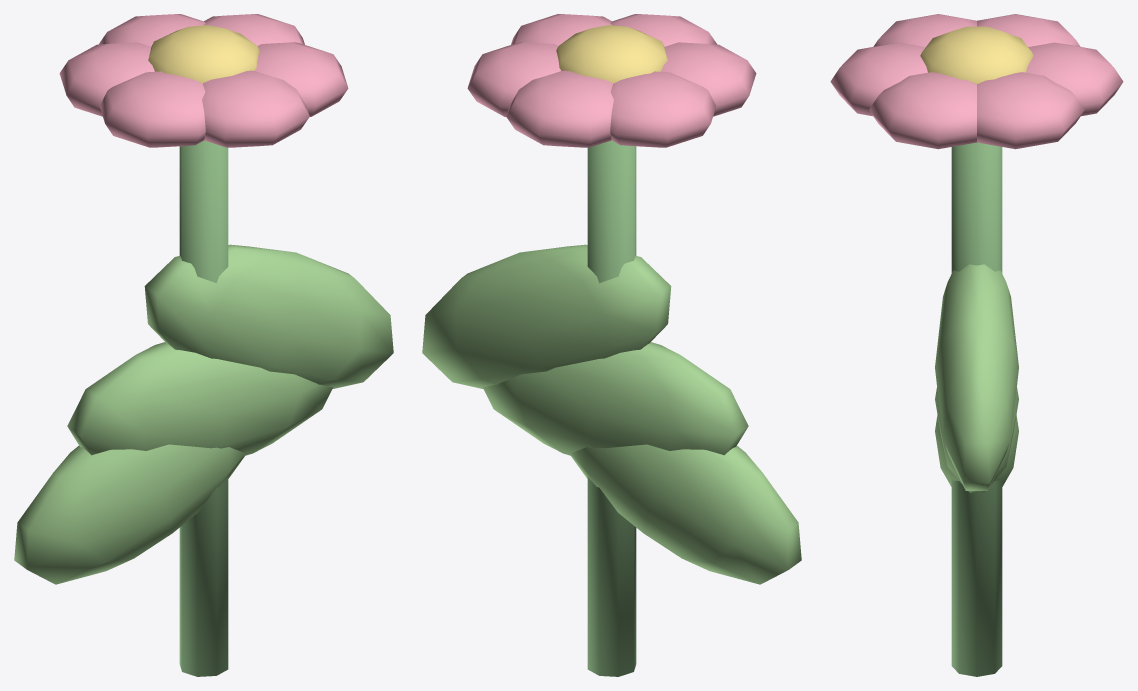
Rendered from flower_a.fbx.
3 views of the same model, side by side, from view 1: azimuth 30°, elevation 25°; view 2: azimuth 150°, elevation 25°; view 3: azimuth 270°, elevation 25° (orthographic).
Visible parts, largest first — view 1: EN_flower_a; view 2: EN_flower_a; view 3: EN_flower_a.
Part boxes in pixels (bbox=[...]): EN_flower_a: bbox=[14, 14, 393, 676]; EN_flower_a: bbox=[422, 14, 801, 676]; EN_flower_a: bbox=[830, 14, 1123, 676].
Bounding box in the file's own units: 30.12 × 49.7 × 20.9.
